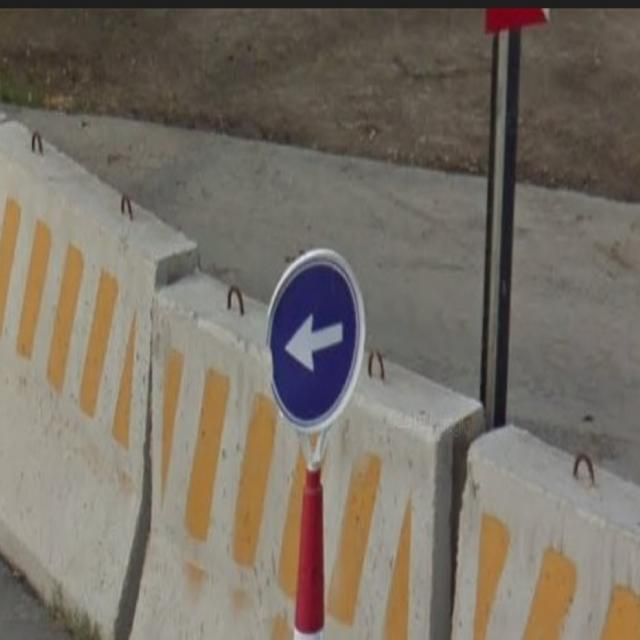Turn Left: (268, 253, 361, 434)
